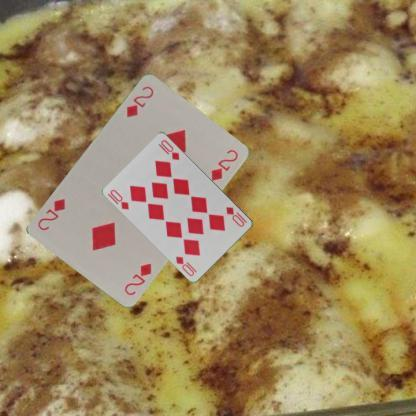10d: (224, 204, 248, 228), (108, 187, 131, 211)
2d: (121, 260, 153, 296), (124, 82, 154, 118)
